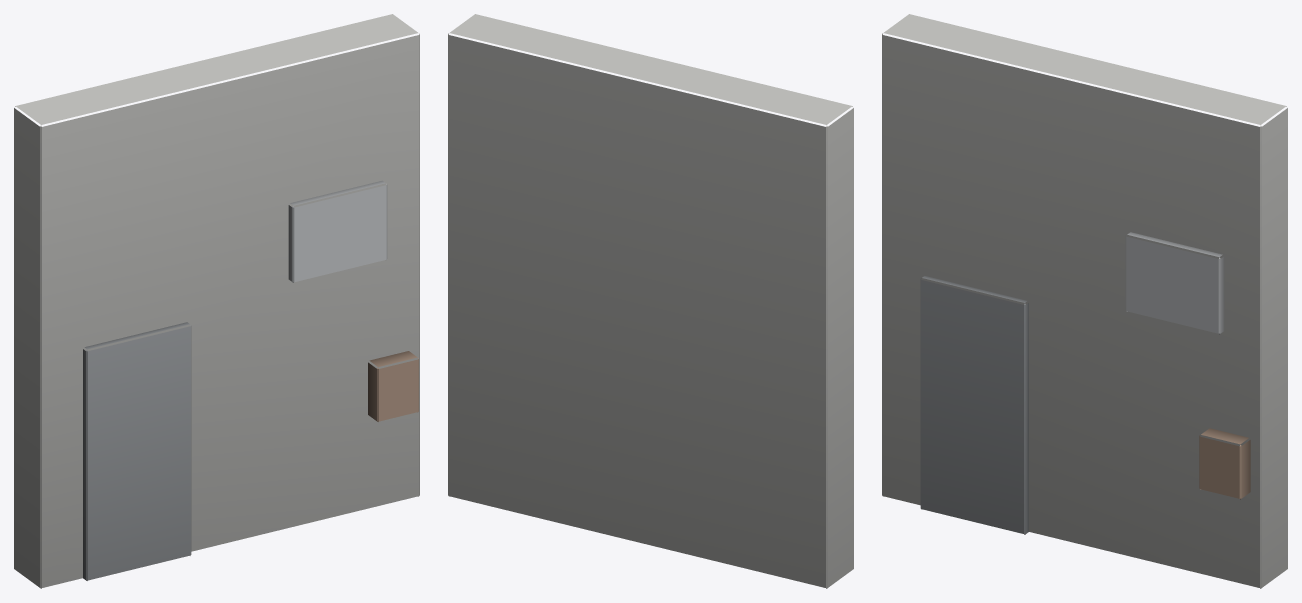
File: ground_service.glb
3 views of the same model, side by side, from view 1: azimuth 30°, elevation 25°; view 2: azimuth 150°, elevation 25°; view 3: azimuth 330°, elevation 25° (orthographic).
Visible parts, largest first — view 1: facade_ground_service; view 2: facade_ground_service; view 3: facade_ground_service.
Boxes of the visible parts, x1,y1,x2,y2 form: facade_ground_service: (14, 14, 419, 588); facade_ground_service: (448, 14, 853, 588); facade_ground_service: (882, 14, 1287, 588).
Bounding box in the file's own units: 3.6 × 4.2 × 0.6101.
